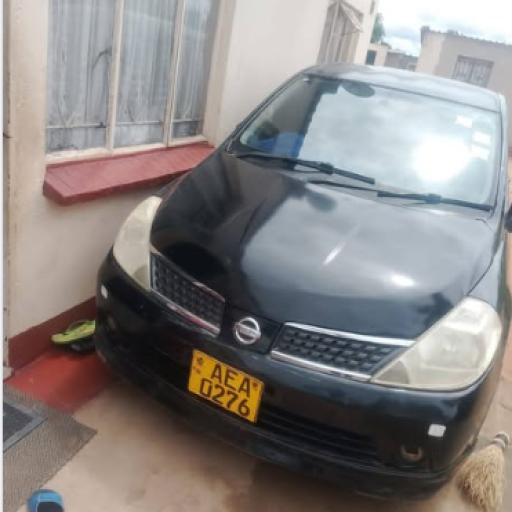number-plates: (186, 341, 261, 420)
